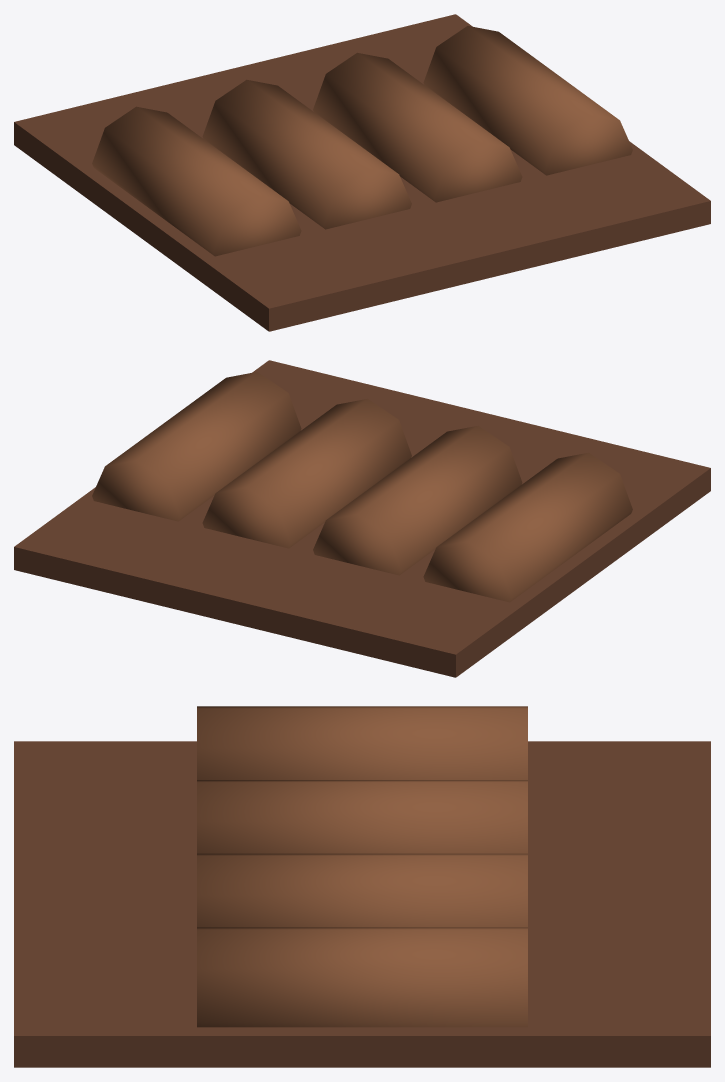
Rendered from plot.glb.
3 views of the same model, one above another, from view 1: azimuth 30°, elevation 25°; view 2: azimuth 150°, elevation 25°; view 3: azimuth 270°, elevation 25° (orthographic). The views are drawn at different scales.
Parts seen in each view (by area): view 1: PlotMesh; view 2: PlotMesh; view 3: PlotMesh.
Boxes of the visible parts, x1=… form: PlotMesh: x1=14, y1=14, x2=710, y2=331; PlotMesh: x1=14, y1=360, x2=710, y2=677; PlotMesh: x1=14, y1=706, x2=710, y2=1067.
Bounding box in the file's own units: 2 × 0.4 × 2.
